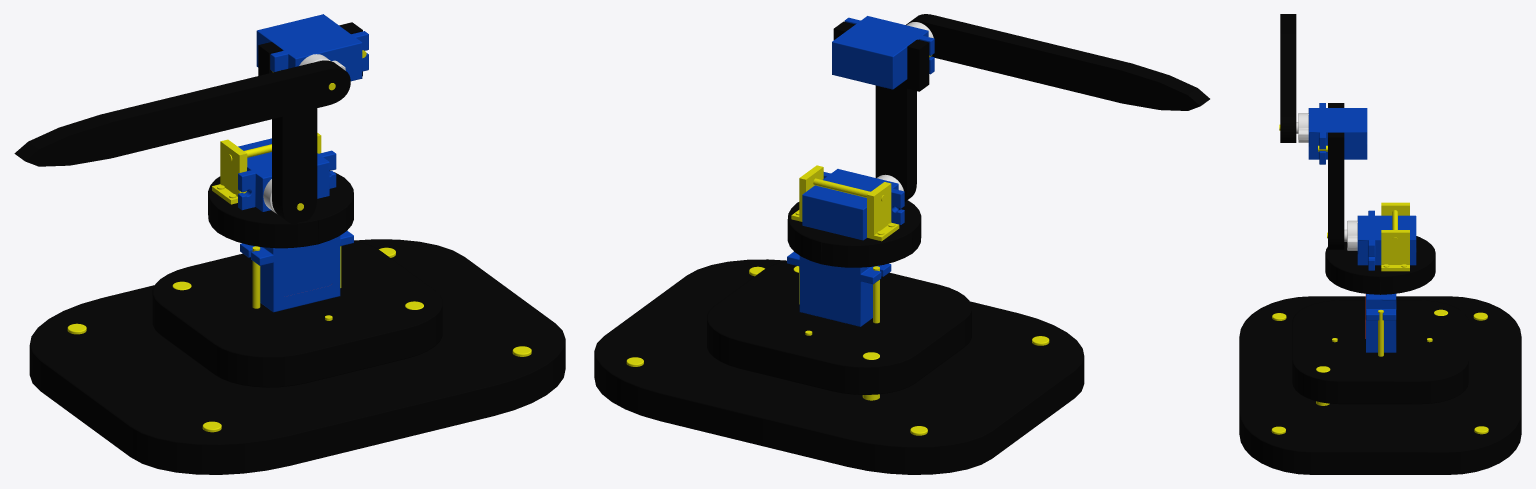
The picture shows the model from 3 angles, left to right: view 1: azimuth 30°, elevation 25°; view 2: azimuth 150°, elevation 25°; view 3: azimuth 270°, elevation 25°; orthographic projection. The views are drawn at different scales.
Visible parts, largest first — view 1: Cube.003, Cube.004, Cube.001, Cube.005, Cube, Cylinder, Cylinder.006, Cylinder.005, Cube.002; view 2: Cube.003, Cube.004, Cube.001, Cube, Cylinder.006, Cube.005, Cylinder, Cylinder.005, Cube.002; view 3: Cube.003, Cube.004, Cube.005, Cylinder.006, Cylinder.005, Cube.001, Cube, Cylinder, Cube.002.
Part boxes in pixels (x1=…): Cube.003: x1=29, y1=239, x2=565, y2=474; Cube.004: x1=152, y1=240, x2=442, y2=387; Cube.001: x1=14, y1=60, x2=350, y2=166; Cube.005: x1=208, y1=170, x2=353, y2=248; Cube: x1=258, y1=22, x2=362, y2=224; Cylinder: x1=240, y1=230, x2=353, y2=312; Cylinder.006: x1=256, y1=14, x2=368, y2=81; Cylinder.005: x1=238, y1=138, x2=336, y2=213; Cube.002: x1=212, y1=133, x2=321, y2=204; Cube.003: x1=594, y1=259, x2=1084, y2=474; Cube.004: x1=707, y1=261, x2=971, y2=394; Cube.001: x1=906, y1=14, x2=1209, y2=110; Cube: x1=833, y1=21, x2=929, y2=201; Cylinder.006: x1=832, y1=16, x2=934, y2=89; Cube.005: x1=787, y1=200, x2=921, y2=267; Cylinder: x1=787, y1=252, x2=891, y2=326; Cylinder.005: x1=802, y1=169, x2=904, y2=240; Cube.002: x1=791, y1=165, x2=899, y2=241; Cube.003: x1=1239, y1=296, x2=1521, y2=474; Cube.004: x1=1292, y1=300, x2=1468, y2=404; Cube.005: x1=1325, y1=236, x2=1435, y2=294; Cylinder.006: x1=1296, y1=103, x2=1367, y2=164; Cylinder.005: x1=1344, y1=210, x2=1416, y2=270; Cube.001: x1=1280, y1=14, x2=1296, y2=142; Cube: x1=1328, y1=103, x2=1344, y2=249; Cylinder: x1=1365, y1=293, x2=1396, y2=352; Cube.002: x1=1381, y1=202, x2=1409, y2=271.
Size of the model in its own units: 13.02 by 8.14 by 7.68.
